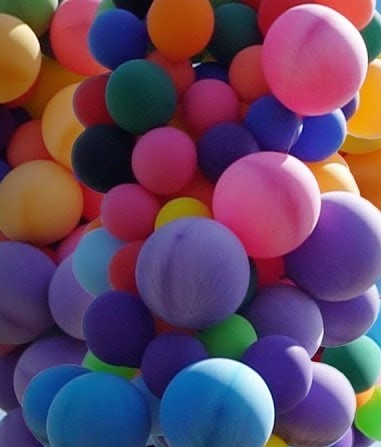Balloon: (135, 216, 249, 329), (264, 3, 368, 116), (213, 151, 318, 258), (284, 193, 381, 301), (158, 358, 275, 447), (47, 370, 152, 447), (1, 160, 83, 240), (105, 60, 176, 129), (82, 289, 146, 363), (131, 127, 196, 193), (148, 1, 214, 59), (87, 8, 147, 63), (102, 182, 154, 236), (180, 79, 236, 126)
